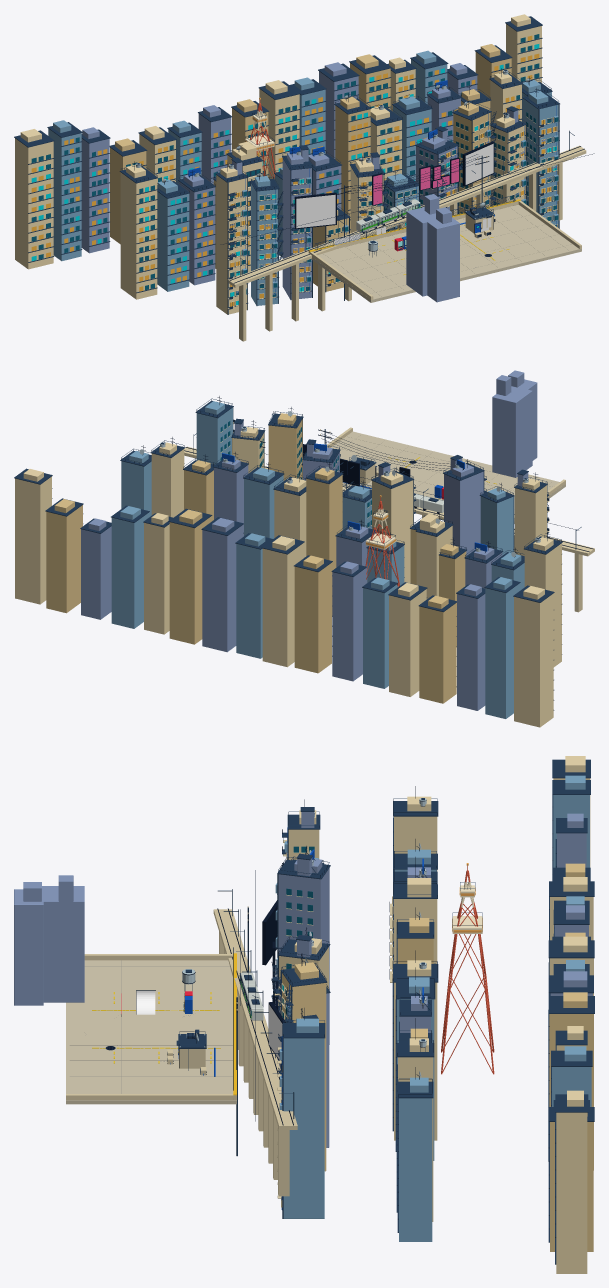
The model's file is rooftop.glb.
3 views of the same model, one above another, from view 1: azimuth 30°, elevation 25°; view 2: azimuth 150°, elevation 25°; view 3: azimuth 270°, elevation 25° (orthographic). The views are drawn at different scales.
Visible parts, largest first — view 1: Far_BuildingA, Roof_Floor, Mid_BuildingA, Near_Metal, Far_BuildingB, Far_BuildingC, Far_Metal, Near_BuildingB, Near_BuildingA, Transit_Concrete, Roof_BuildingC, Far_BuildingD (+27 smaller); view 2: Far_BuildingA, Far_BuildingD, Far_BuildingC, Far_BuildingB, Mid_BuildingA, Mid_BuildingD, Near_BuildingA, Mid_BuildingB, Near_BuildingB, Roof_Floor, Roof_BuildingC, Near_BuildingC (+12 smaller); view 3: Roof_Floor, Roof_BuildingC, Far_BuildingA, Near_BuildingB, Far_Metal, Transit_Concrete, Mid_BuildingB, Mid_BuildingA, Mid_Metal, Near_BuildingC, Near_Metal, Far_BuildingD (+11 smaller).
Boxes of the visible parts, x1=… form: Far_BuildingA: x1=15, y1=14, x2=541, y2=269; Roof_Floor: x1=311, y1=204, x2=581, y2=302; Mid_BuildingA: x1=120, y1=72, x2=521, y2=299; Near_Metal: x1=215, y1=90, x2=559, y2=314; Far_BuildingB: x1=48, y1=50, x2=447, y2=261; Far_BuildingC: x1=81, y1=62, x2=477, y2=253; Far_Metal: x1=14, y1=16, x2=542, y2=262; Near_BuildingB: x1=242, y1=91, x2=558, y2=305; Near_BuildingA: x1=216, y1=116, x2=525, y2=314; Transit_Concrete: x1=228, y1=145, x2=586, y2=341; Roof_BuildingC: x1=406, y1=194, x2=459, y2=302; Far_BuildingD: x1=110, y1=44, x2=511, y2=244; Far_BuildingA: x1=15, y1=469, x2=553, y2=727; Far_BuildingD: x1=46, y1=499, x2=456, y2=703; Far_BuildingC: x1=81, y1=518, x2=485, y2=710; Far_BuildingB: x1=111, y1=506, x2=519, y2=718; Mid_BuildingA: x1=151, y1=442, x2=561, y2=667; Mid_BuildingD: x1=184, y1=460, x2=466, y2=647; Near_BuildingA: x1=232, y1=427, x2=546, y2=583; Mid_BuildingB: x1=121, y1=450, x2=524, y2=590; Near_BuildingB: x1=196, y1=401, x2=513, y2=555; Roof_Floor: x1=331, y1=431, x2=565, y2=523; Roof_BuildingC: x1=492, y1=370, x2=537, y2=477; Near_BuildingC: x1=234, y1=421, x2=528, y2=555; Roof_Floor: x1=66, y1=960, x2=236, y2=1104; Roof_BuildingC: x1=14, y1=875, x2=84, y2=1005; Far_BuildingA: x1=549, y1=756, x2=593, y2=1273; Near_BuildingB: x1=275, y1=841, x2=324, y2=1218; Far_Metal: x1=548, y1=759, x2=594, y2=1264; Transit_Concrete: x1=213, y1=909, x2=297, y2=1196; Mid_BuildingB: x1=394, y1=849, x2=436, y2=1241; Mid_BuildingA: x1=394, y1=796, x2=437, y2=1221; Mid_Metal: x1=389, y1=798, x2=438, y2=1232; Near_BuildingC: x1=278, y1=812, x2=329, y2=1147; Near_Metal: x1=271, y1=807, x2=330, y2=1218; Far_BuildingD: x1=549, y1=863, x2=593, y2=1251.
Bounding box in the file's own units: 220 × 64.42 × 156.
